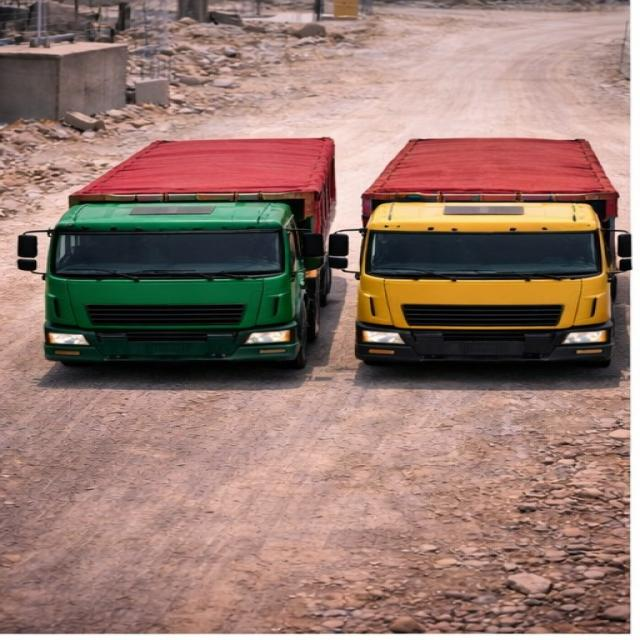trailer: (66, 125, 320, 199), (370, 137, 620, 193)
truck: (14, 120, 348, 362), (330, 131, 634, 371)
